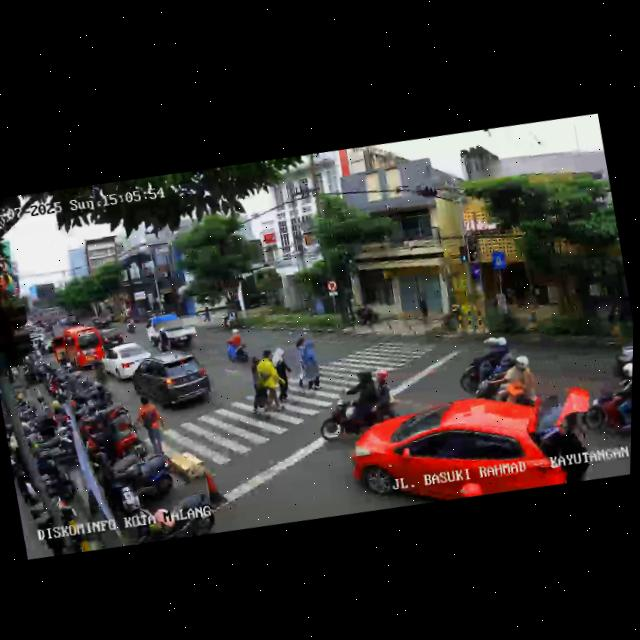car: (342, 368, 607, 525), (127, 344, 216, 421), (48, 319, 110, 378), (99, 339, 157, 388), (144, 308, 200, 356), (607, 335, 633, 388), (97, 326, 126, 353)
motorcycle: (308, 361, 409, 449), (575, 357, 633, 454), (466, 349, 541, 416), (452, 330, 523, 399), (222, 324, 251, 366), (123, 313, 139, 336)
person: (130, 392, 173, 463), (252, 347, 292, 416), (242, 354, 273, 420), (268, 345, 299, 407), (290, 335, 318, 397), (300, 339, 325, 393), (200, 302, 212, 324)
